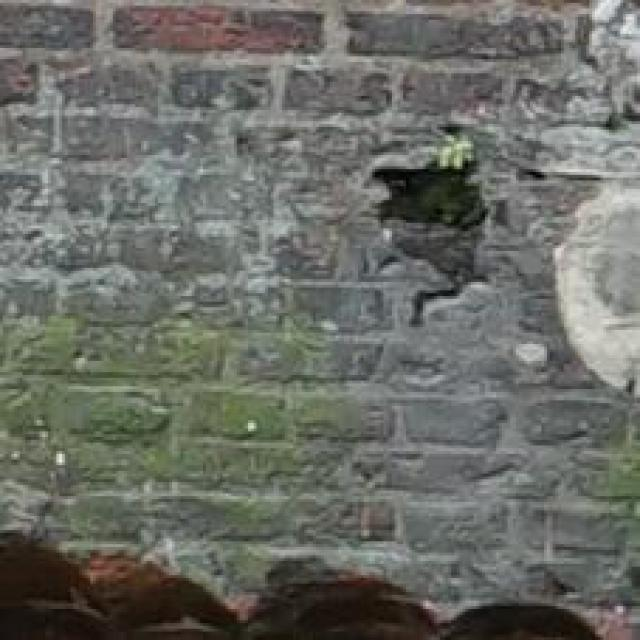Crack: (317, 79, 527, 364)
